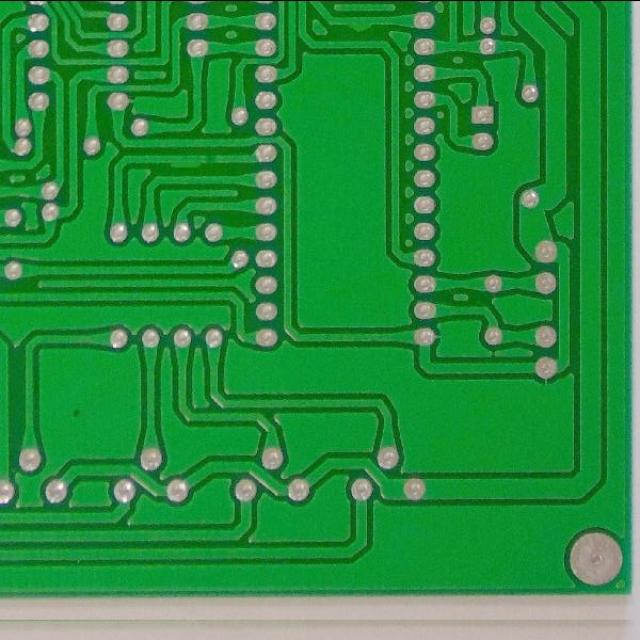Spur: (165, 148, 207, 172), (344, 12, 378, 34)
